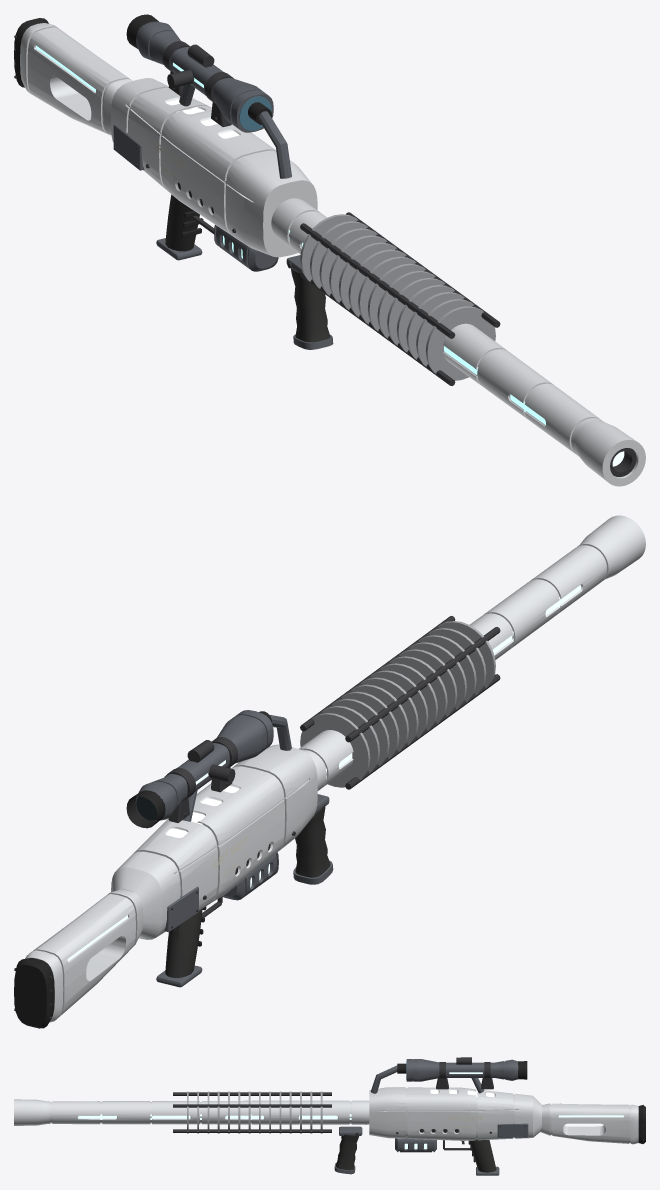
Rendered from grit.glb.
The picture shows the model from 3 angles, top to bottom: view 1: azimuth 30°, elevation 25°; view 2: azimuth 150°, elevation 25°; view 3: azimuth 270°, elevation 25°; orthographic projection. The views are drawn at different scales.
Parts seen in each view (by area): view 1: Body; view 2: Body; view 3: Body.
Part boxes in pixels (x1,y1,x2,y2): Body: (14, 14, 645, 486); Body: (14, 515, 645, 1028); Body: (14, 1057, 645, 1175).
Size of the model in its own units: 0.09 by 0.2722 by 1.35.
